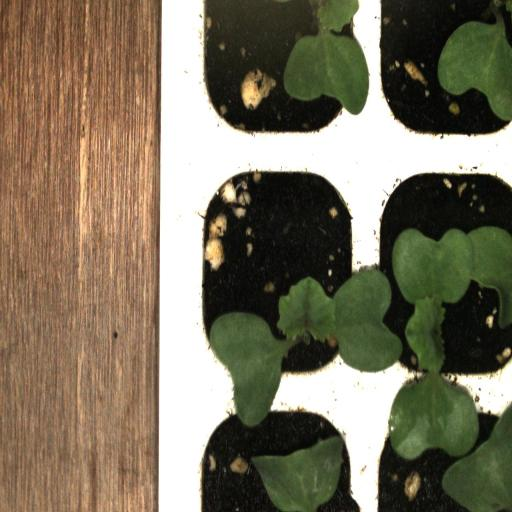Folha: (208, 226, 512, 512), (256, 0, 369, 115), (438, 21, 512, 122)
Germinacao: (186, 154, 368, 402)
